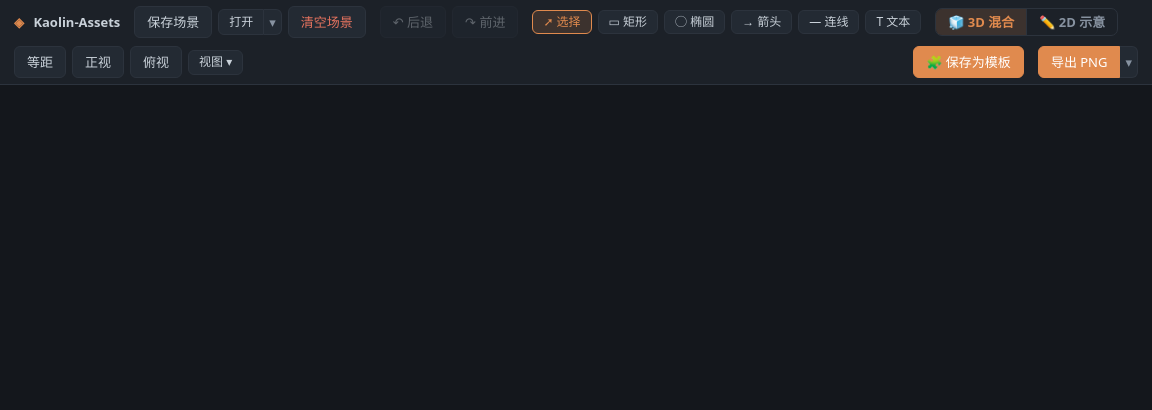
Test case: TopBar 信息架构（Phase1） › 导出下拉：打开后六格式 + 设置区（dpi/透明底/像素尺寸）
The width and height of the screenshot is (1152, 410).
Click the 2nd button "▾".
click(1129, 62)  # box left=1120, top=46, right=1138, bottom=78
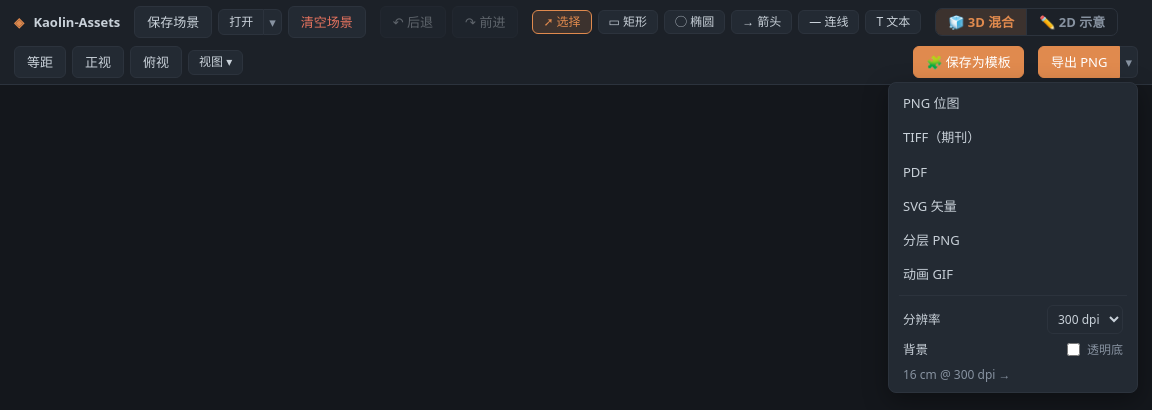
Now the button "PNG 位图" is shown, box left=893, top=87, right=1133, bottom=119
Now the button "TIFF（期刊）" is shown, box left=893, top=121, right=1133, bottom=154
Now the button "PDF" is shown, box left=893, top=156, right=1133, bottom=188
